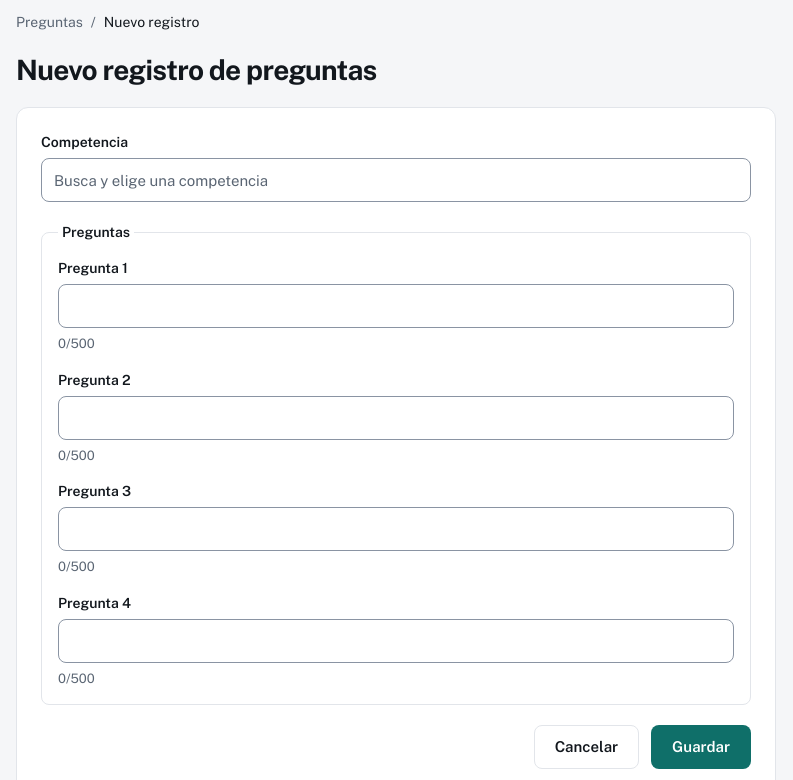
PreguntasFormPage (crear) › muestra cuatro campos numerados fijos, con contador y sin agregar ni quitar
Check: the dropdown labelled "Competencia" is shown, box [41,158,751,202]
Check: the element "Preguntas" is shown, box [41,222,751,705]
In the field labelled "Pregunta 2": (396, 418) [58,396,734,440], type "abc"
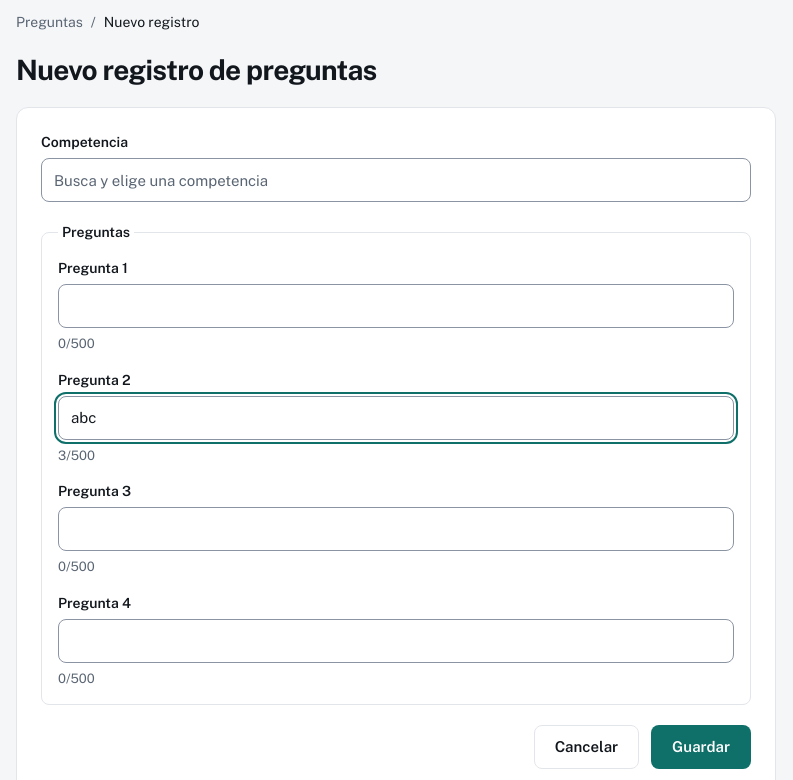
Check: the text "3/500" is shown, box [58,448,95,462]
